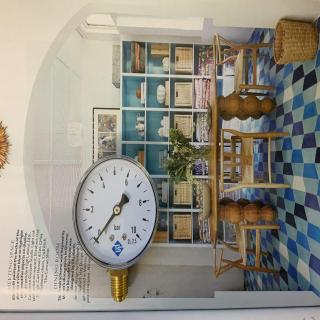gauge: (71, 154, 162, 270), (130, 225, 146, 243), (88, 230, 102, 250), (112, 206, 120, 214), (95, 234, 101, 241)
